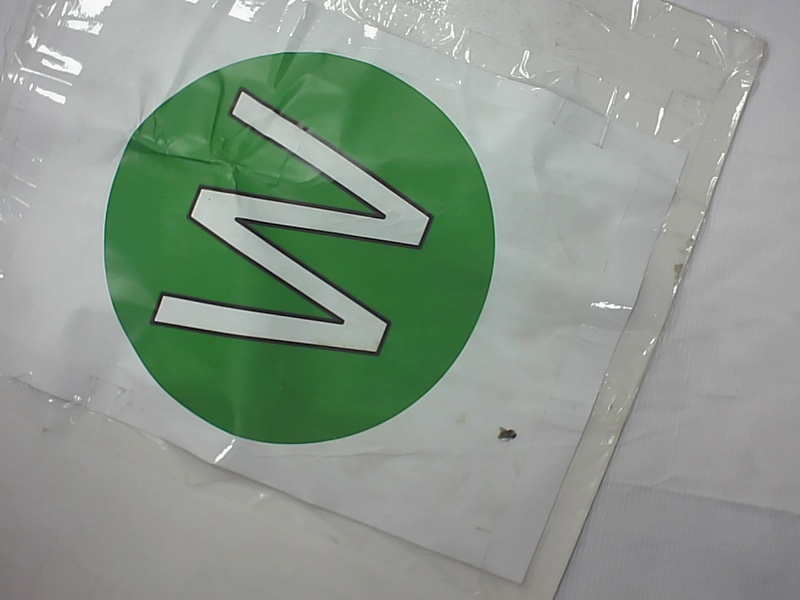areaB: (95, 49, 503, 464)
